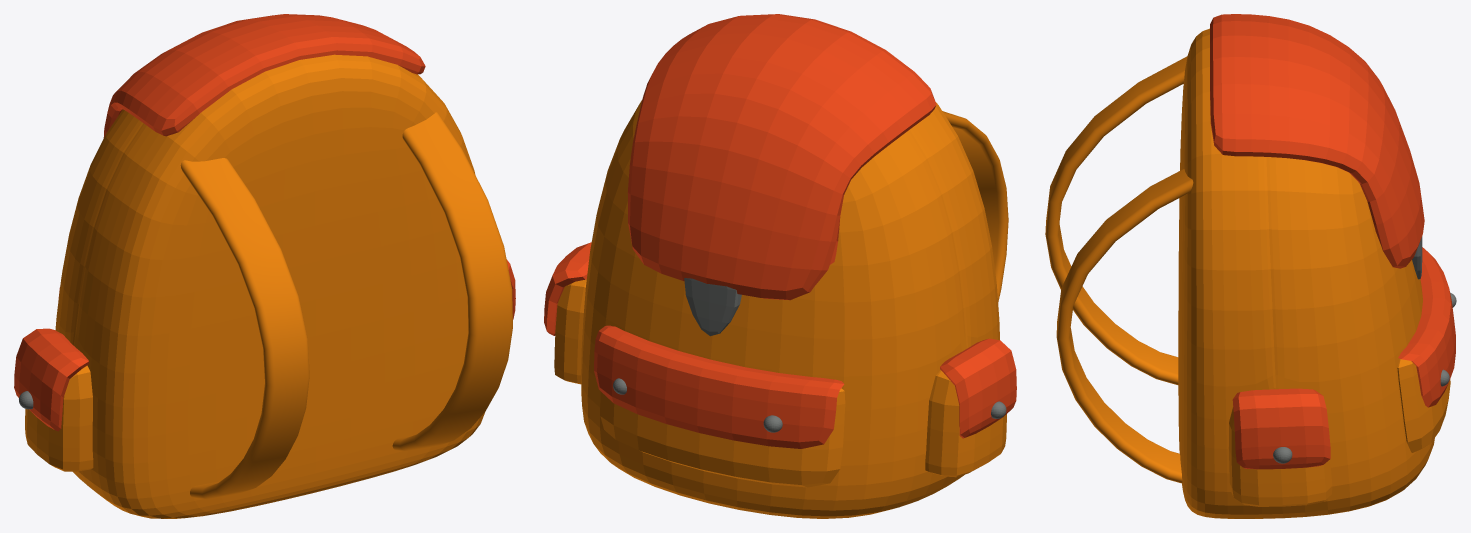
File: BackpackModel.fbx
3 renders of one model, left to right at view 1: azimuth 30°, elevation 25°; view 2: azimuth 150°, elevation 25°; view 3: azimuth 270°, elevation 25°, orthographic. The views are drawn at different scales.
Visible parts, largest first — view 1: Cube, BézierCurve, Cube.007, BézierCurve.001, Cube.004, Cube.003; view 2: Cube, Cube.007, Cube.002, Cube.001, Cube.004, Cube.003, BézierCurve, Cube.005, Plane, Cube.006; view 3: Cube, Cube.007, BézierCurve.001, BézierCurve, Cube.006, Cube.002, Cube.005, Cube.001.
Part boxes in pixels (x1,y1,x2,y2): Cube: [55, 54, 485, 518]; BézierCurve: [180, 158, 309, 499]; Cube.007: [103, 14, 425, 137]; BézierCurve.001: [392, 112, 512, 450]; Cube.004: [14, 328, 89, 431]; Cube.003: [25, 365, 93, 471]; Cube: [581, 100, 999, 518]; Cube.007: [627, 14, 936, 300]; Cube.002: [594, 325, 844, 448]; Cube.001: [600, 388, 845, 487]; Cube.004: [940, 338, 1016, 438]; Cube.003: [925, 370, 1006, 477]; BézierCurve: [942, 111, 1008, 302]; Cube.005: [554, 279, 586, 384]; Plane: [684, 278, 741, 336]; Cube.006: [544, 242, 591, 335]; Cube: [1178, 28, 1434, 518]; Cube.007: [1210, 14, 1424, 268]; BézierCurve.001: [1056, 169, 1193, 483]; BézierCurve: [1045, 56, 1187, 384]; Cube.006: [1232, 388, 1330, 469]; Cube.002: [1398, 247, 1455, 407]; Cube.005: [1228, 407, 1332, 506]; Cube.001: [1397, 359, 1450, 452].
Bounding box in the file's own units: 96.75 × 84.71 × 75.48.
